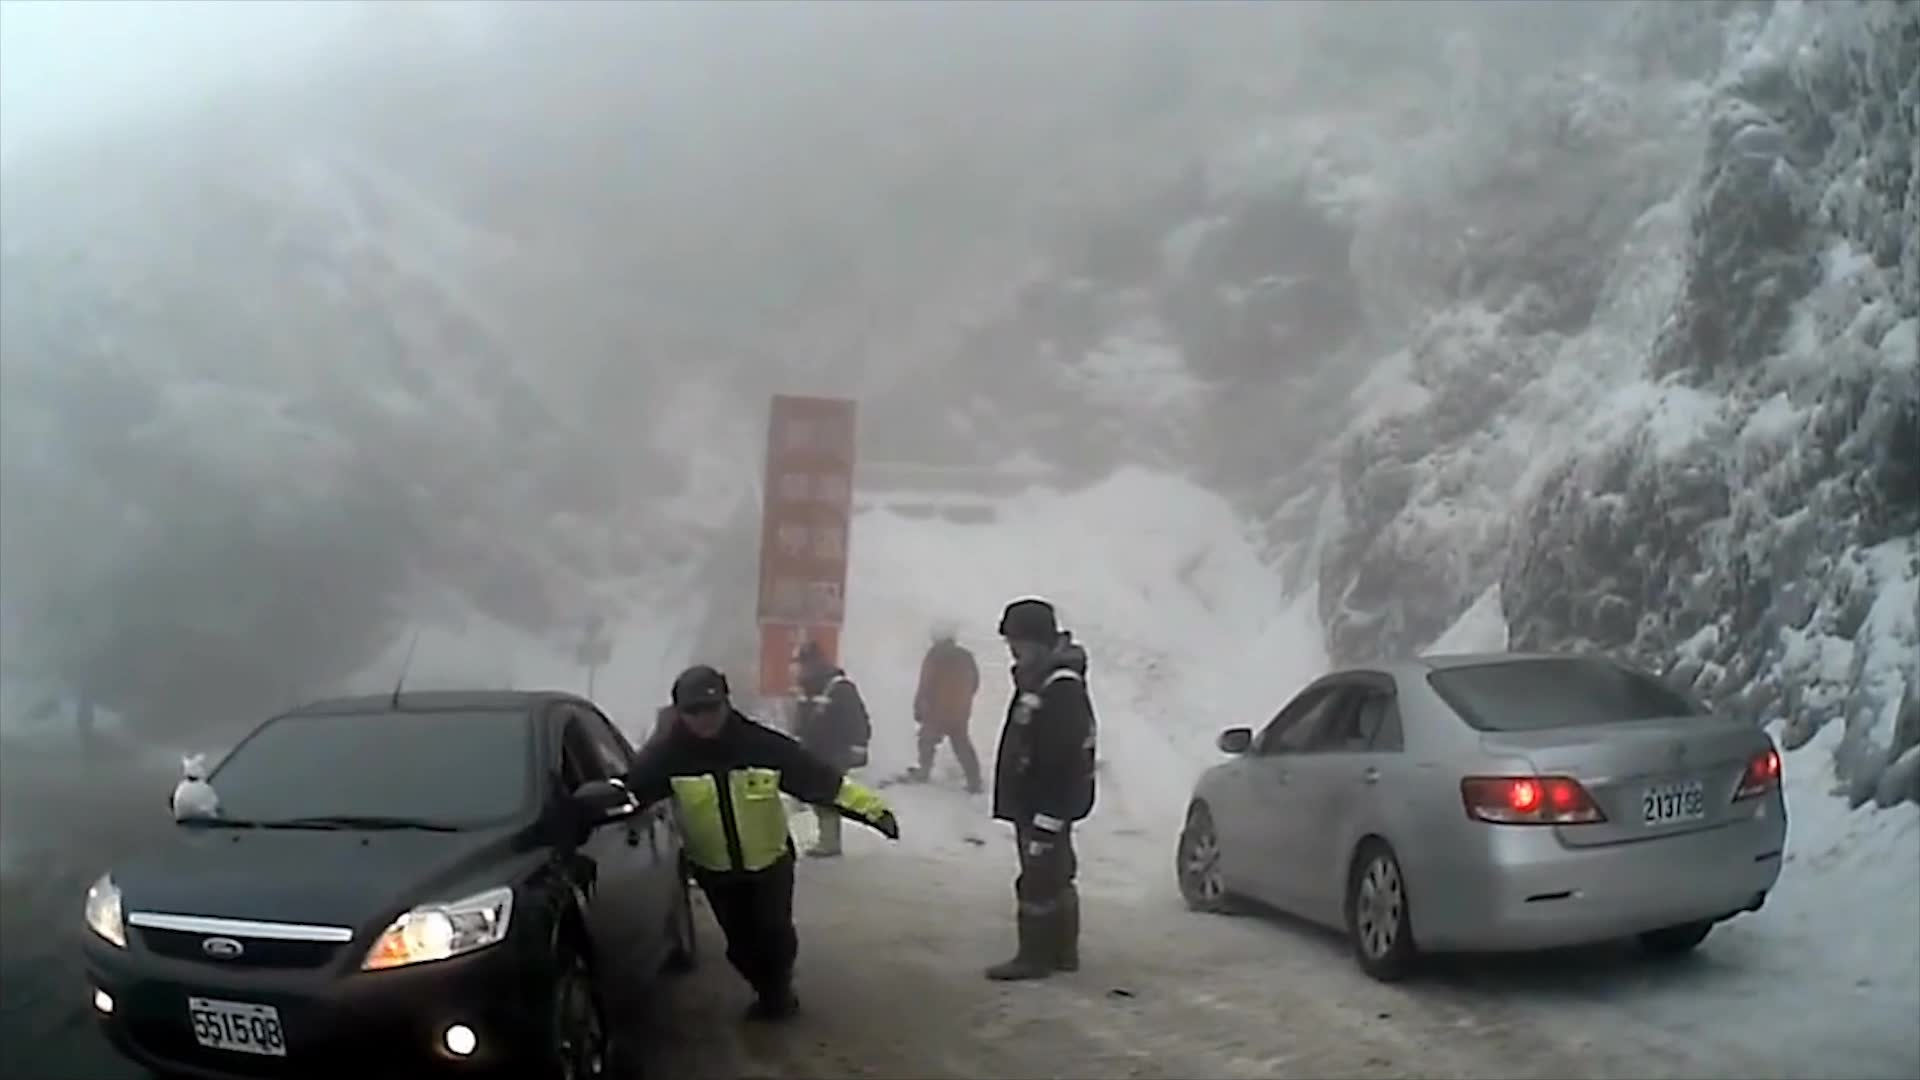pedestrian: (605, 657, 892, 1037), (980, 588, 1097, 981), (789, 639, 874, 856), (907, 608, 984, 794)
vehicle: (75, 687, 709, 1080), (1169, 642, 1791, 977)
